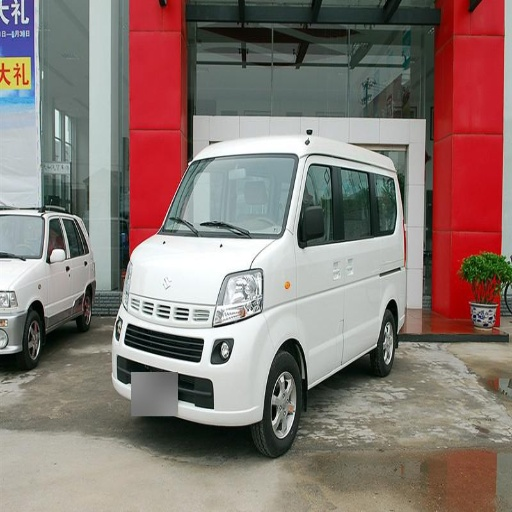front_bumper: (114, 292, 276, 426)
front_glass: (160, 156, 297, 236)
front_left_door: (296, 158, 353, 377), (45, 218, 75, 314)
